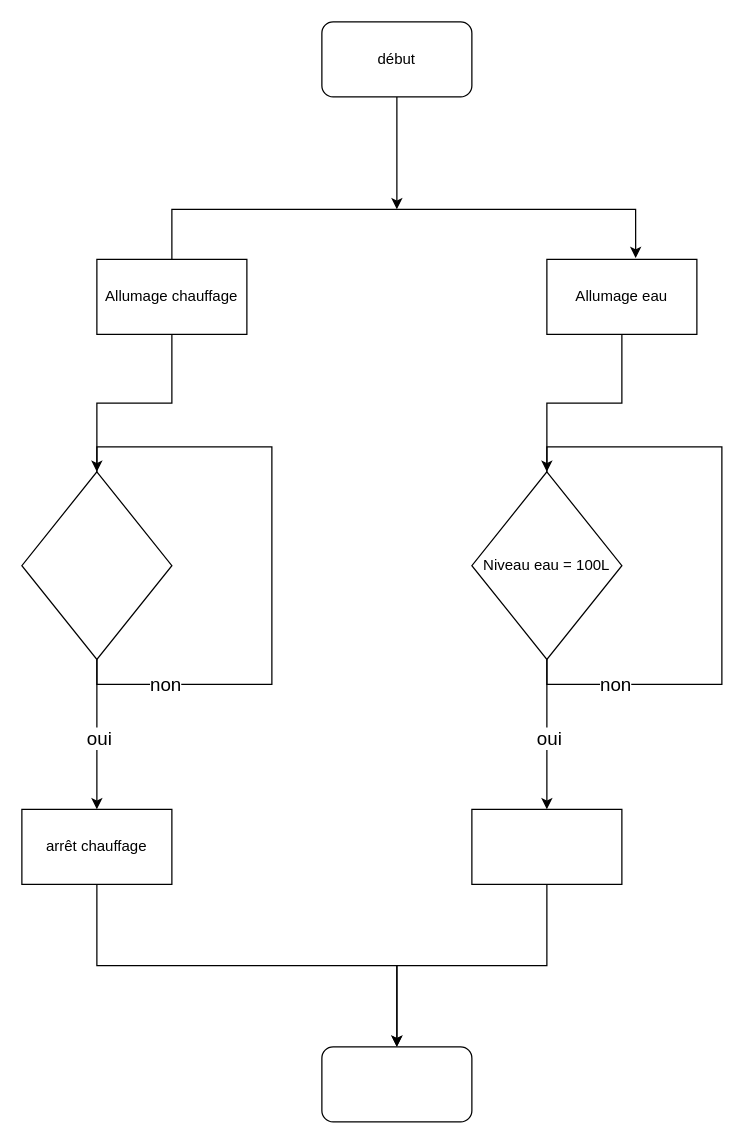
Image size: 754x1144. Some labels were removed from this diagram. The centre of each missing label's shape, as x and y in pixels:
"arrêt remplissage eau" belongs at (x=546, y=846).
"fin" belongs at (x=396, y=1084).
"température = 60°" belongs at (x=96, y=565).
